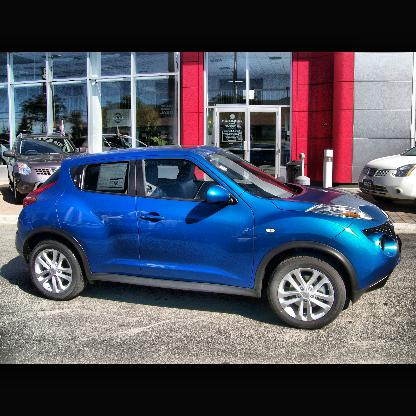Nissan Juke Hatchback 2012: (19, 145, 404, 329)
